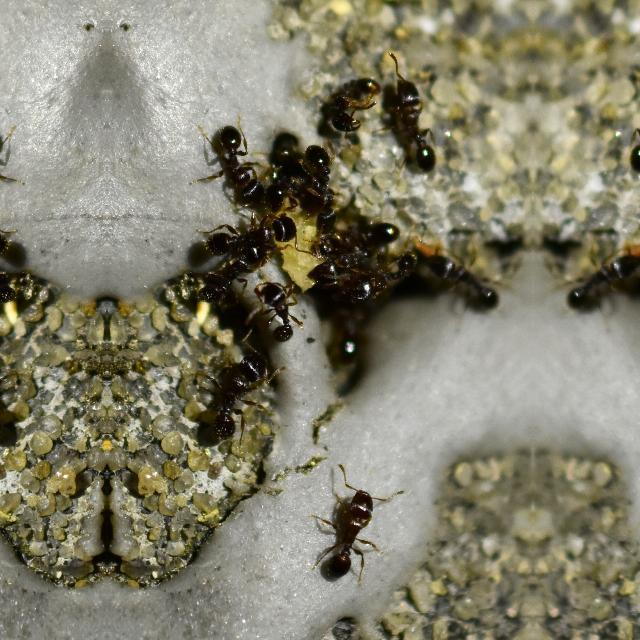Tetramorium: (376, 57, 464, 181), (314, 468, 390, 586), (190, 356, 286, 448), (180, 228, 278, 312), (308, 57, 387, 141), (430, 246, 498, 328), (567, 246, 635, 328), (198, 125, 262, 208), (600, 57, 640, 181), (249, 271, 309, 351), (341, 252, 424, 308), (308, 212, 412, 255), (301, 132, 349, 222), (259, 120, 301, 222), (204, 205, 302, 247), (307, 244, 373, 284), (0, 228, 32, 310), (0, 354, 22, 448), (0, 123, 12, 206)
